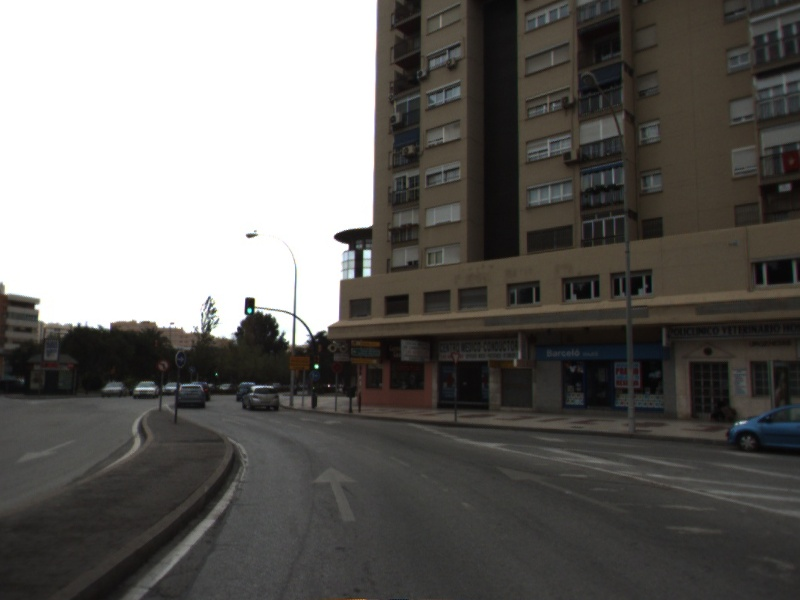STRAIGHT: (493, 464, 632, 515), (310, 465, 362, 524)
